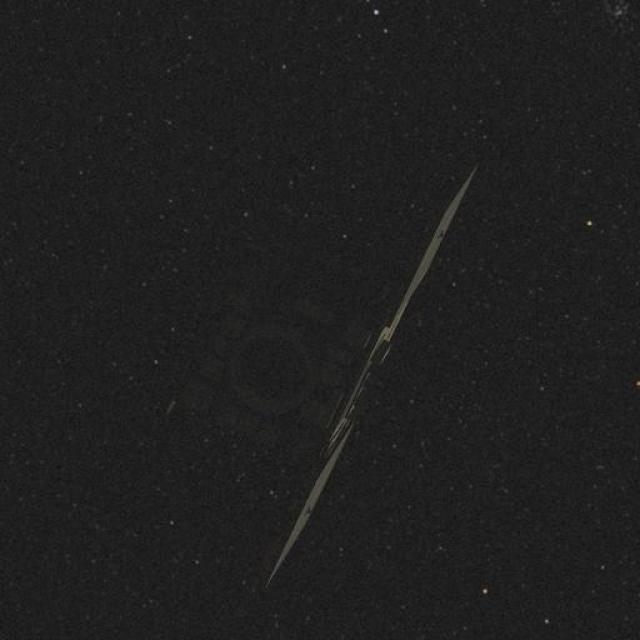proba_2: (153, 127, 479, 587)
